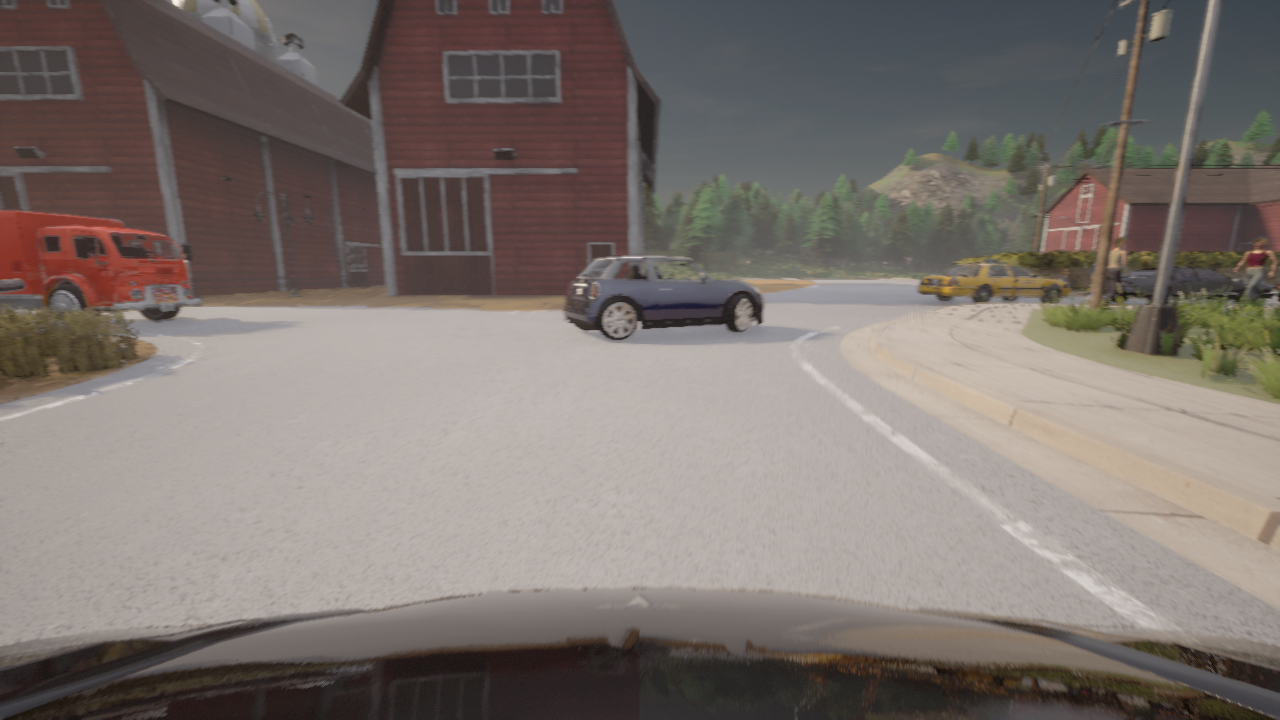cyclist: (0, 588, 1279, 719), (0, 210, 201, 324), (564, 256, 764, 340), (1088, 266, 1274, 303), (918, 259, 1071, 302), (1277, 287, 1279, 301)
pedestrian: (1234, 237, 1276, 303), (1101, 238, 1129, 309), (1088, 263, 1095, 281)
